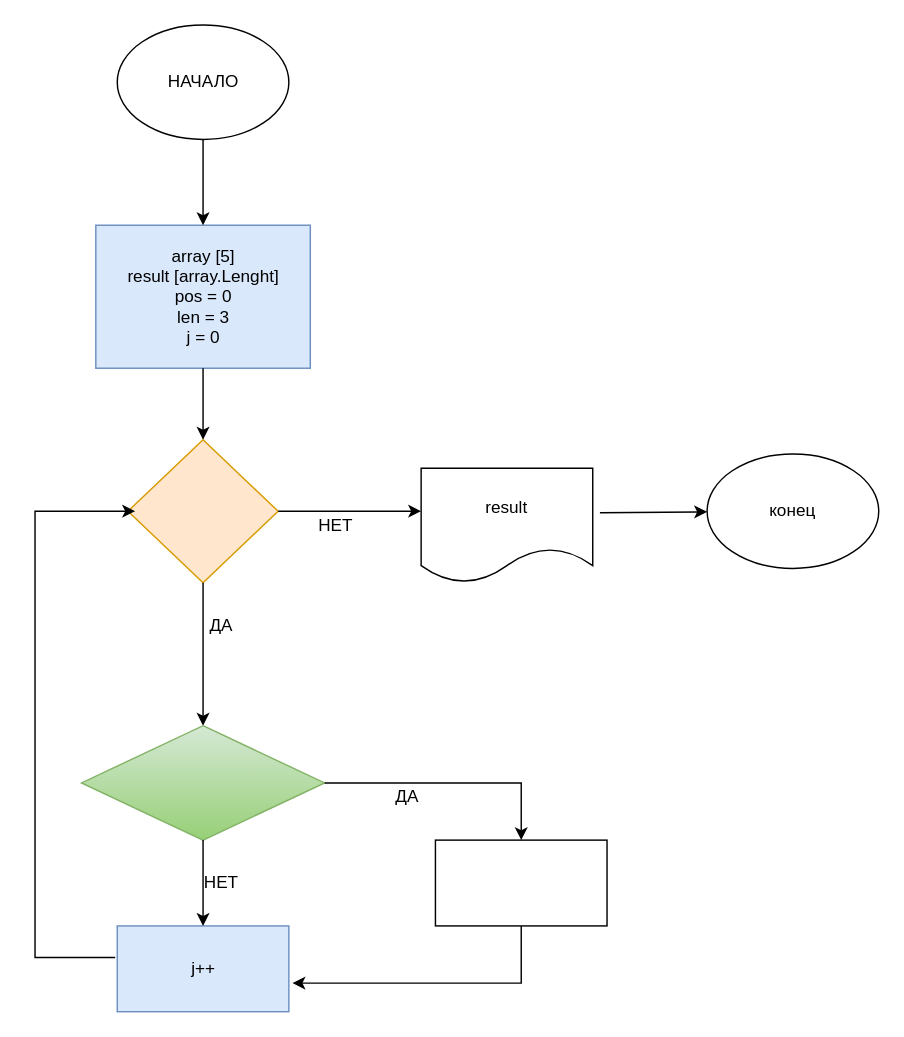
This 904x1037 diagram has some shape labels left out. The centre of each missing label's shape, as x and y in pixels:
"array[j].Lenght <= len?" belongs at point 202,782.
"j < array.Lenght" belongs at point 202,510.
"result[pos] = array[j] pos ++" belongs at point 520,882.
